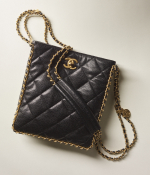channel: (6, 27, 125, 154), (91, 67, 118, 142), (60, 55, 85, 77)
